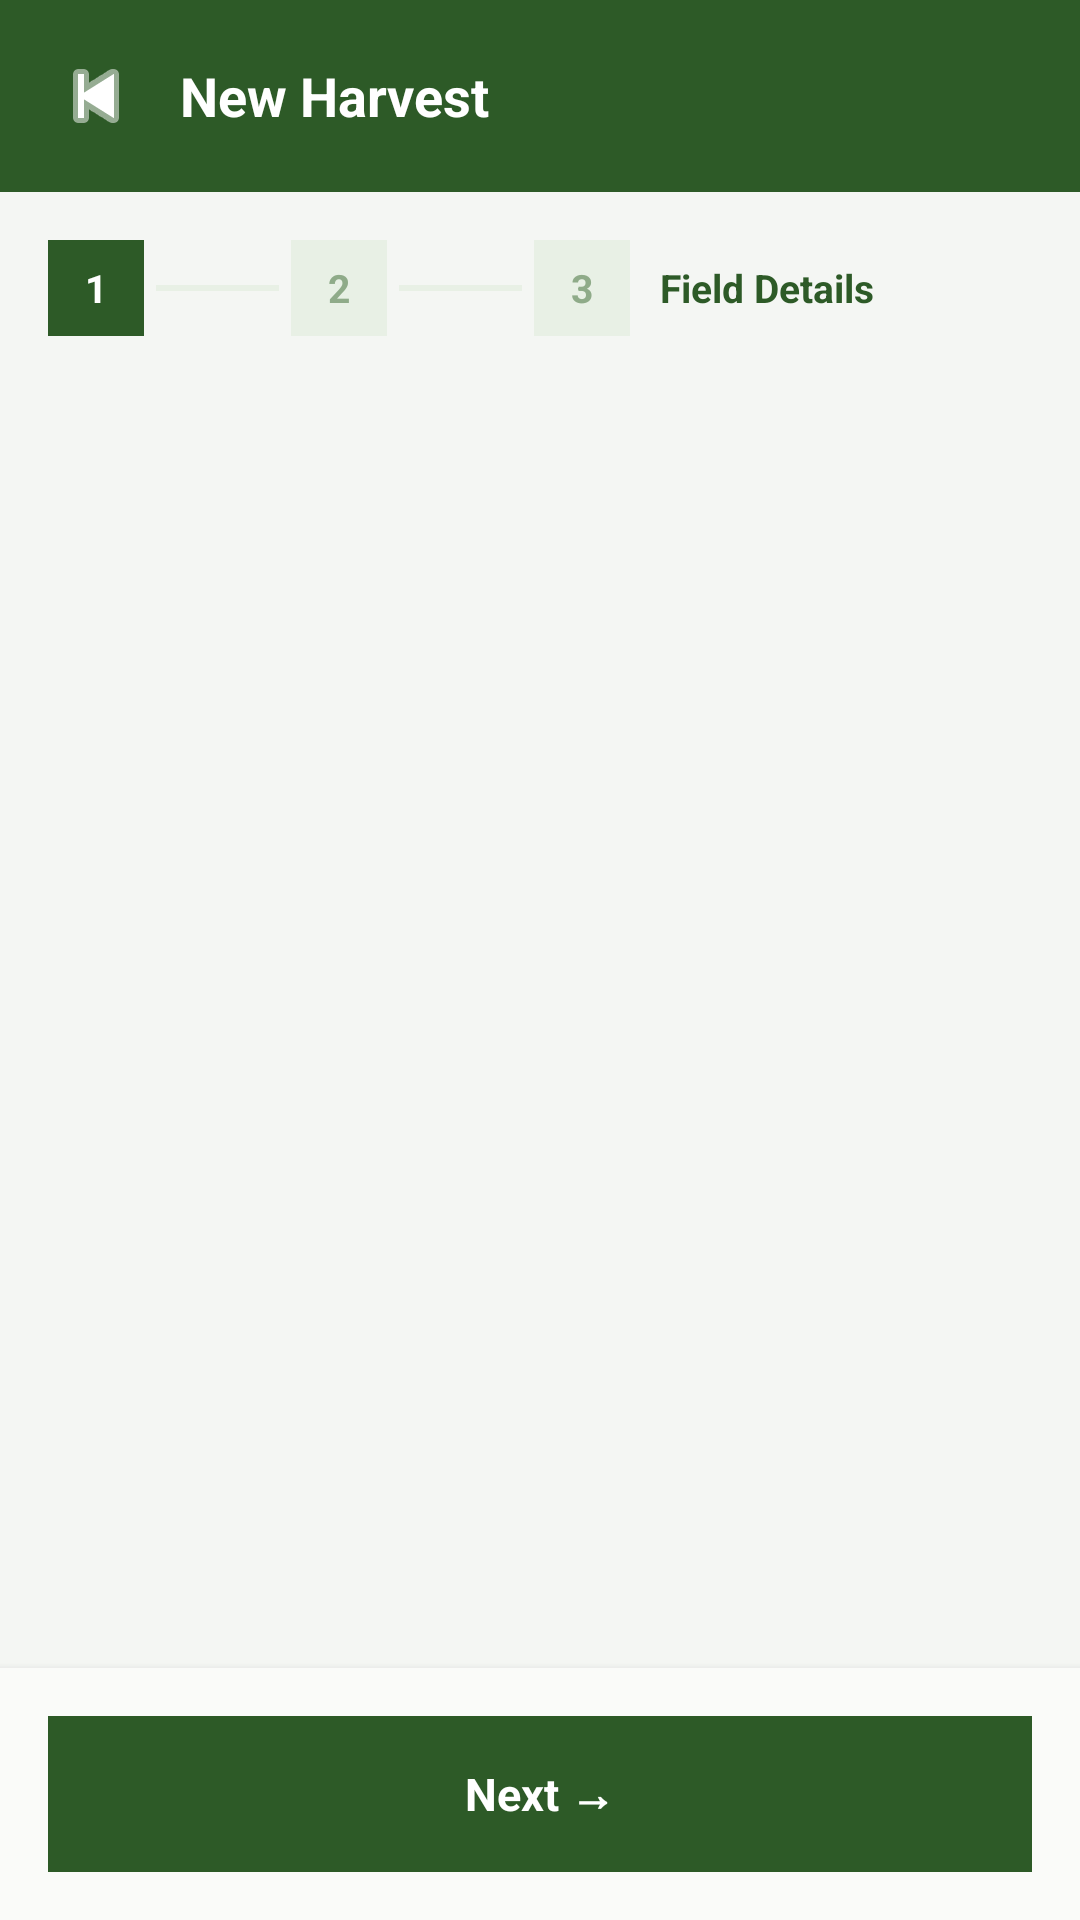

Screen size 1080×1920. Icon name, then its box in pixels as Rect(x1, y1, x2, y2):
previous: Rect(73, 69, 119, 123)
